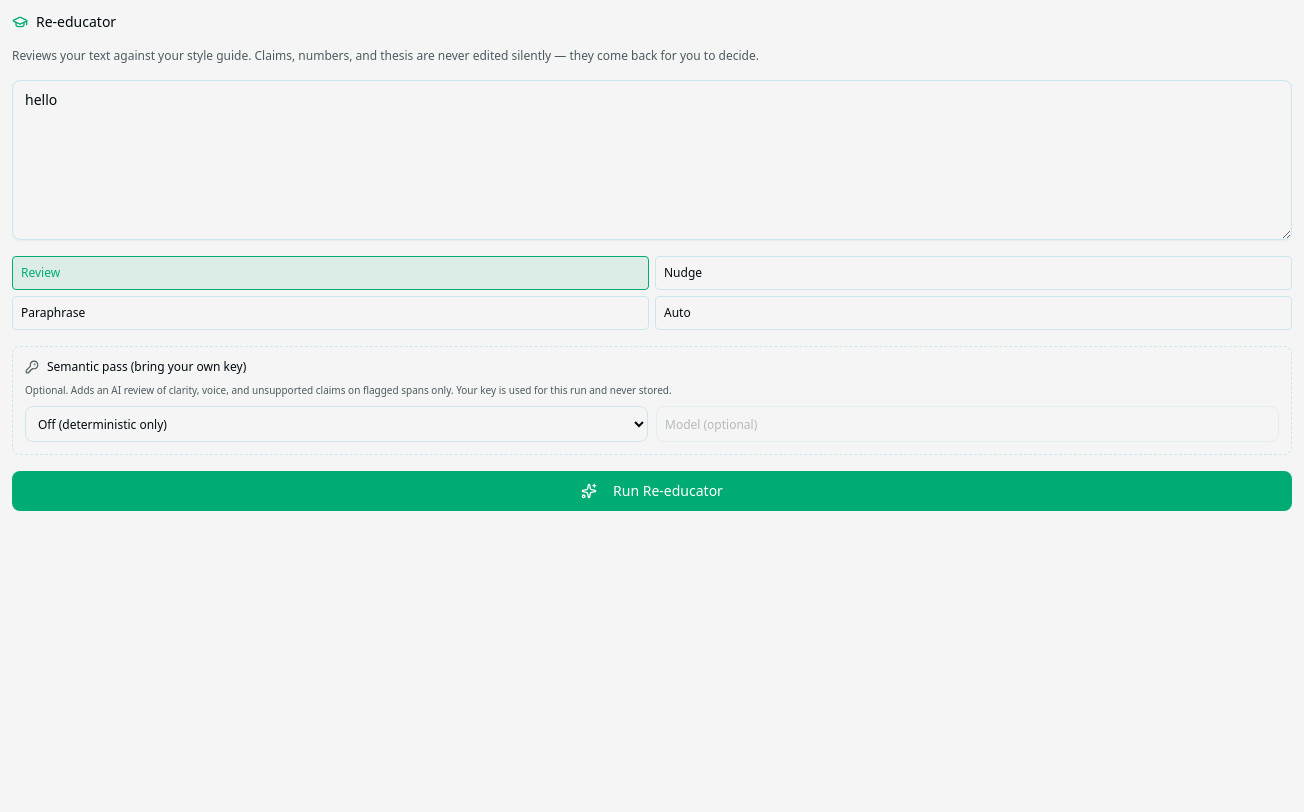
ReEducatorPanel › sends a non-opt-in auto object and renders the refusal reason
Click the button "Auto" at (677, 312), box [655,296,1292,330]
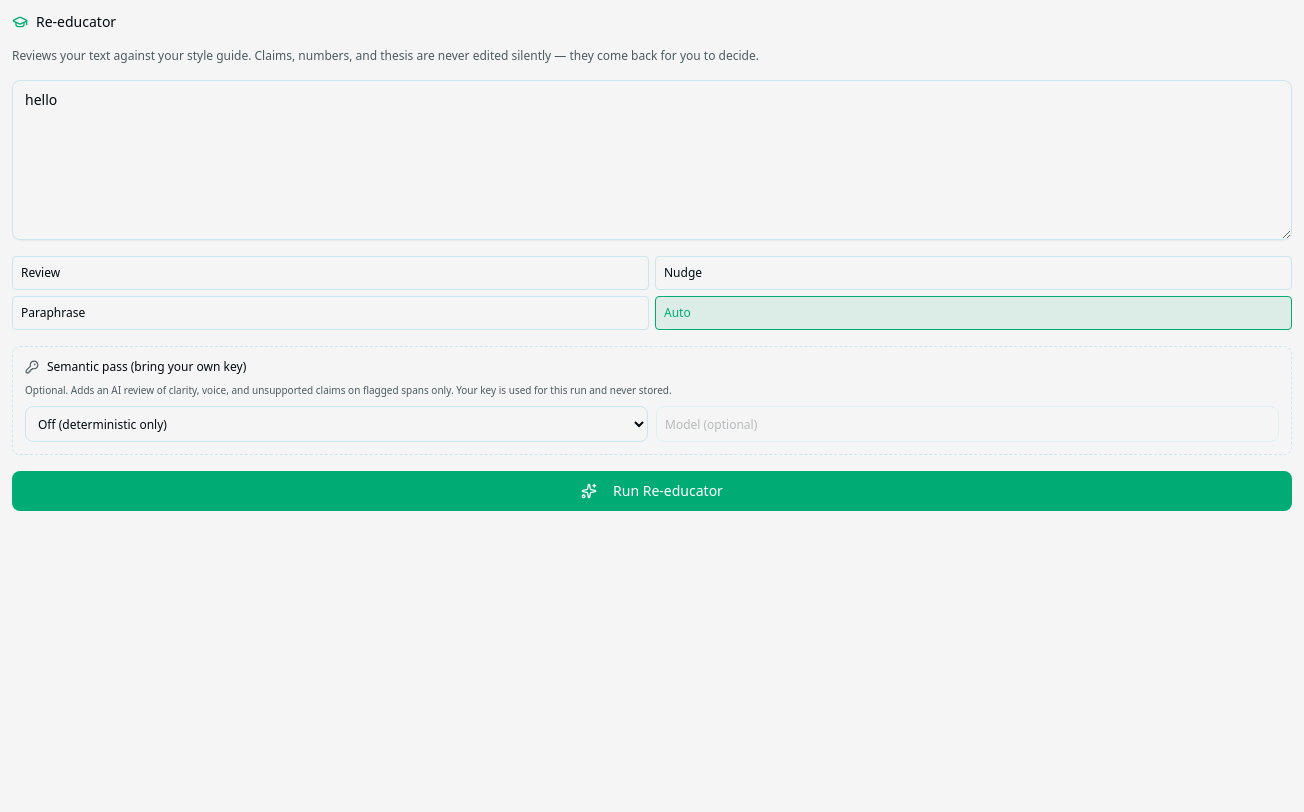
Click the button "Run Re-educator" at (652, 491), box [12,471,1292,511]
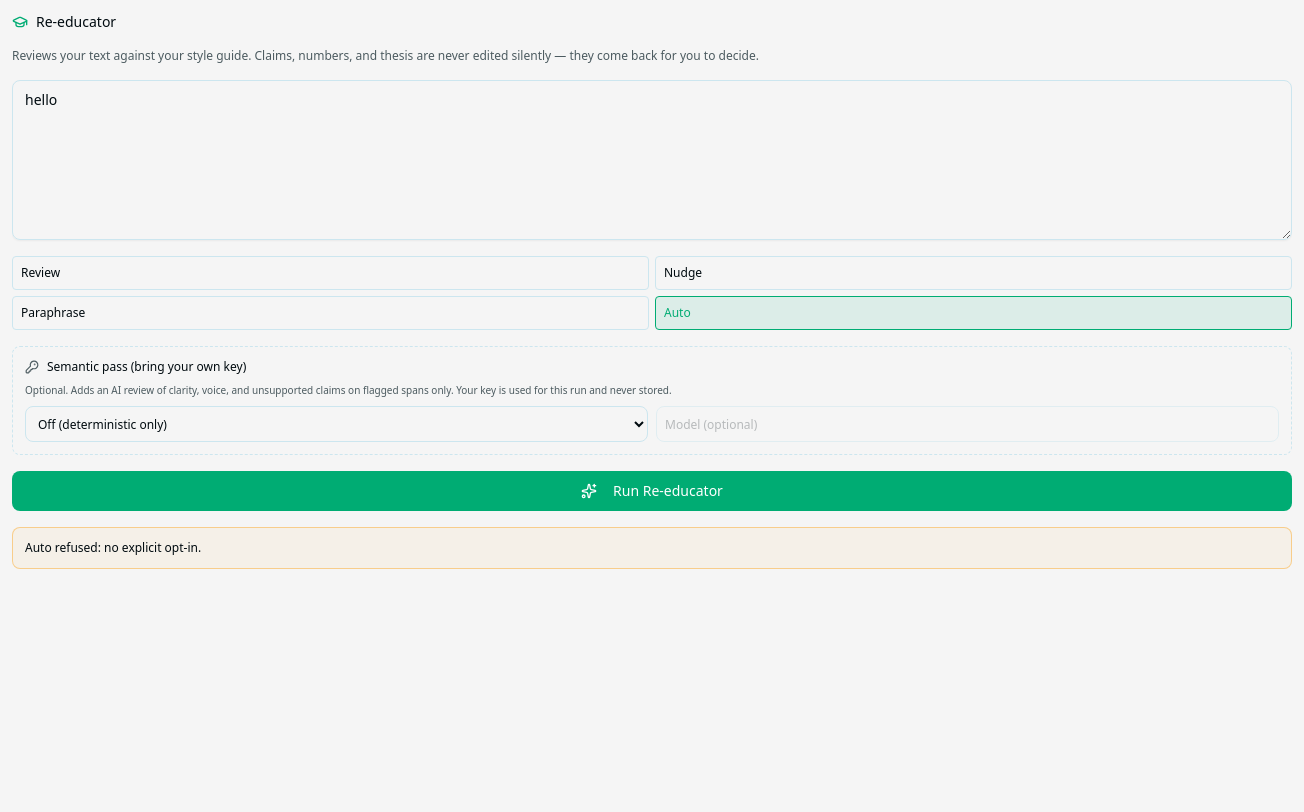
Result: the text "Auto refused: no explicit opt-in." is shown at [12,527,1292,569]
